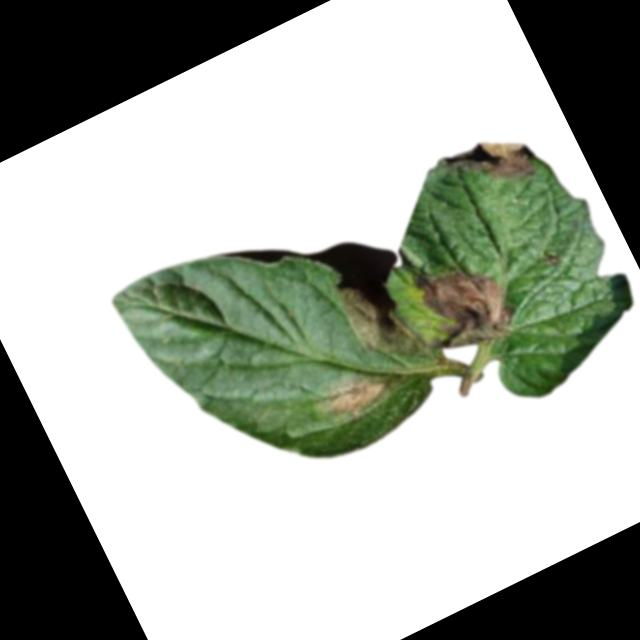Late_blight: (407, 237, 525, 363), (332, 261, 431, 378), (437, 121, 540, 208), (316, 360, 400, 429), (543, 248, 563, 269)
